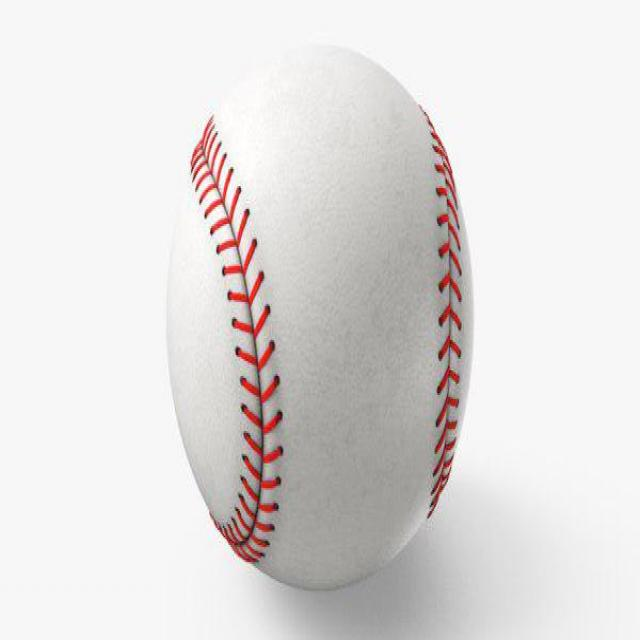baseball: (161, 36, 475, 596)
